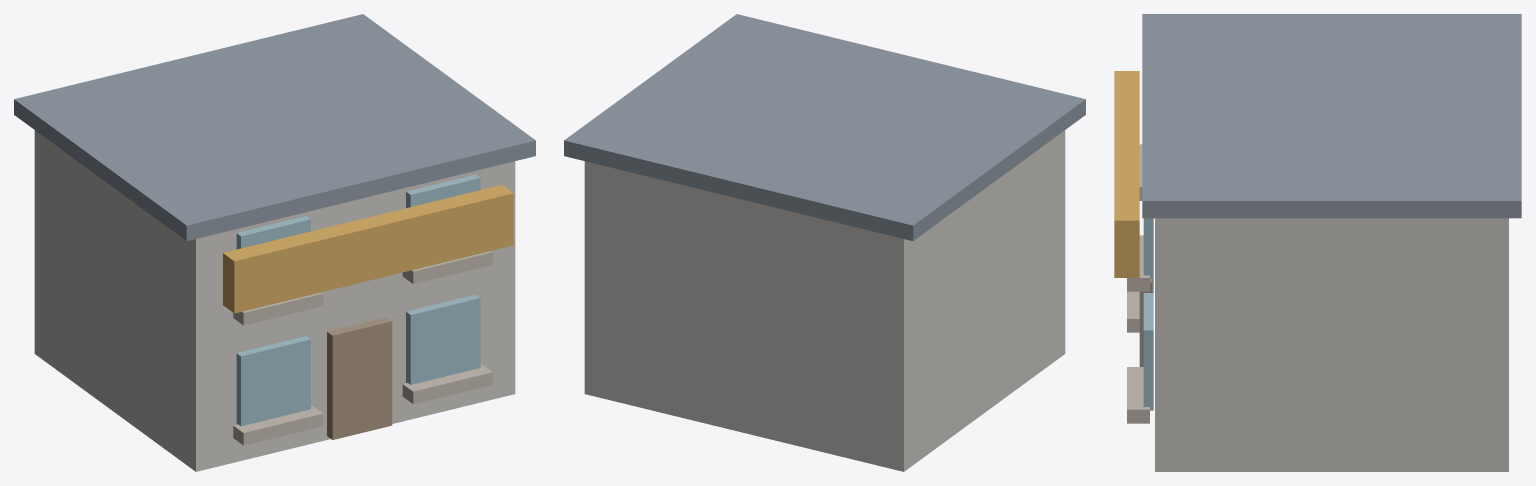
The model's file is restaurant_chicken.glb.
3 views of the same model, side by side, from view 1: azimuth 30°, elevation 25°; view 2: azimuth 150°, elevation 25°; view 3: azimuth 270°, elevation 25° (orthographic). The views are drawn at different scales.
Size of the model in its own units: 3.5 by 2.43 by 3.22.
